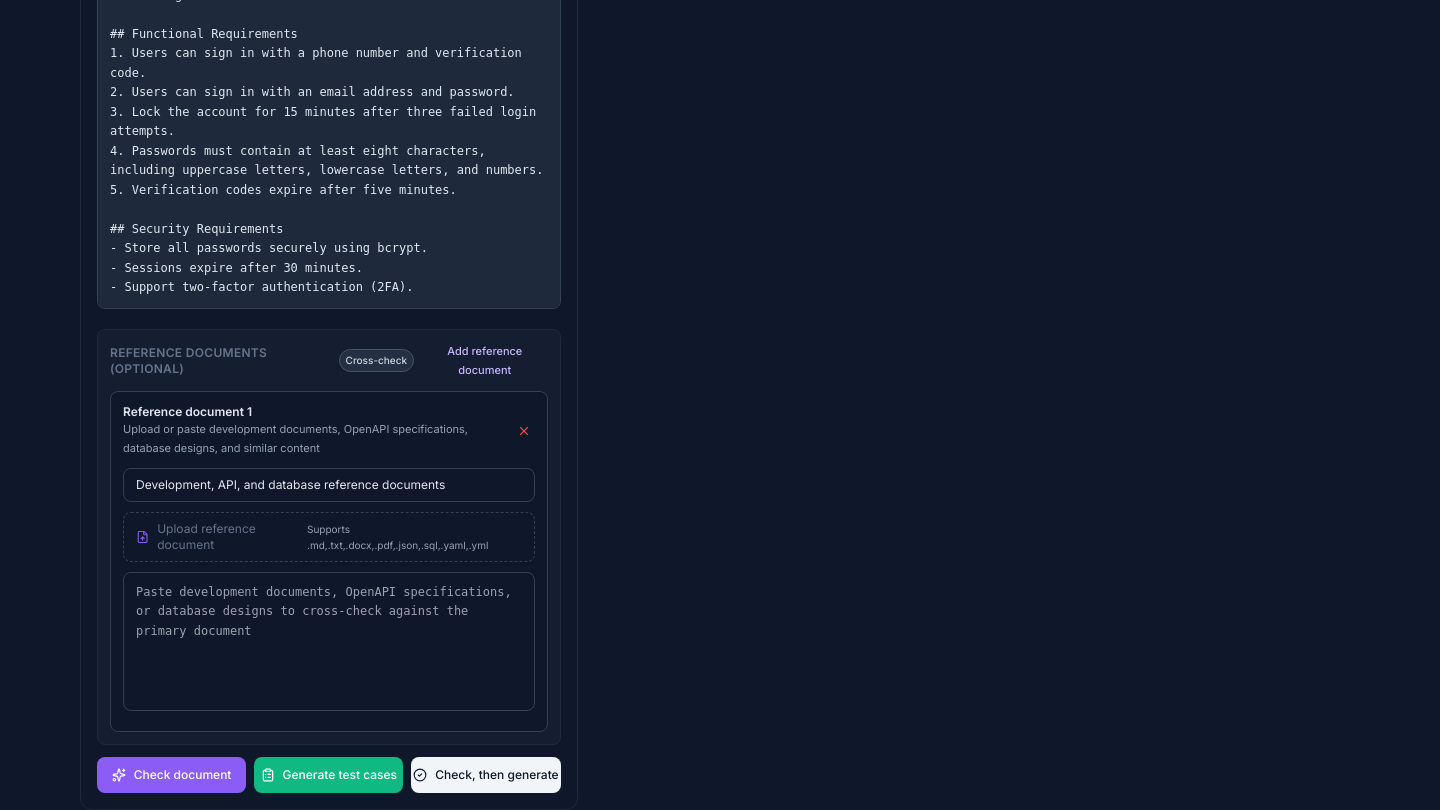
Test: RequirementPage › should show document analysis result after clicking detect
This screenshot has width=1440, height=810.
(page scrolled)
What coordinates should you click on to do the following:
click the button "Check document"
I would click on:
 (172, 775)
Its box is [97,757,246,793].
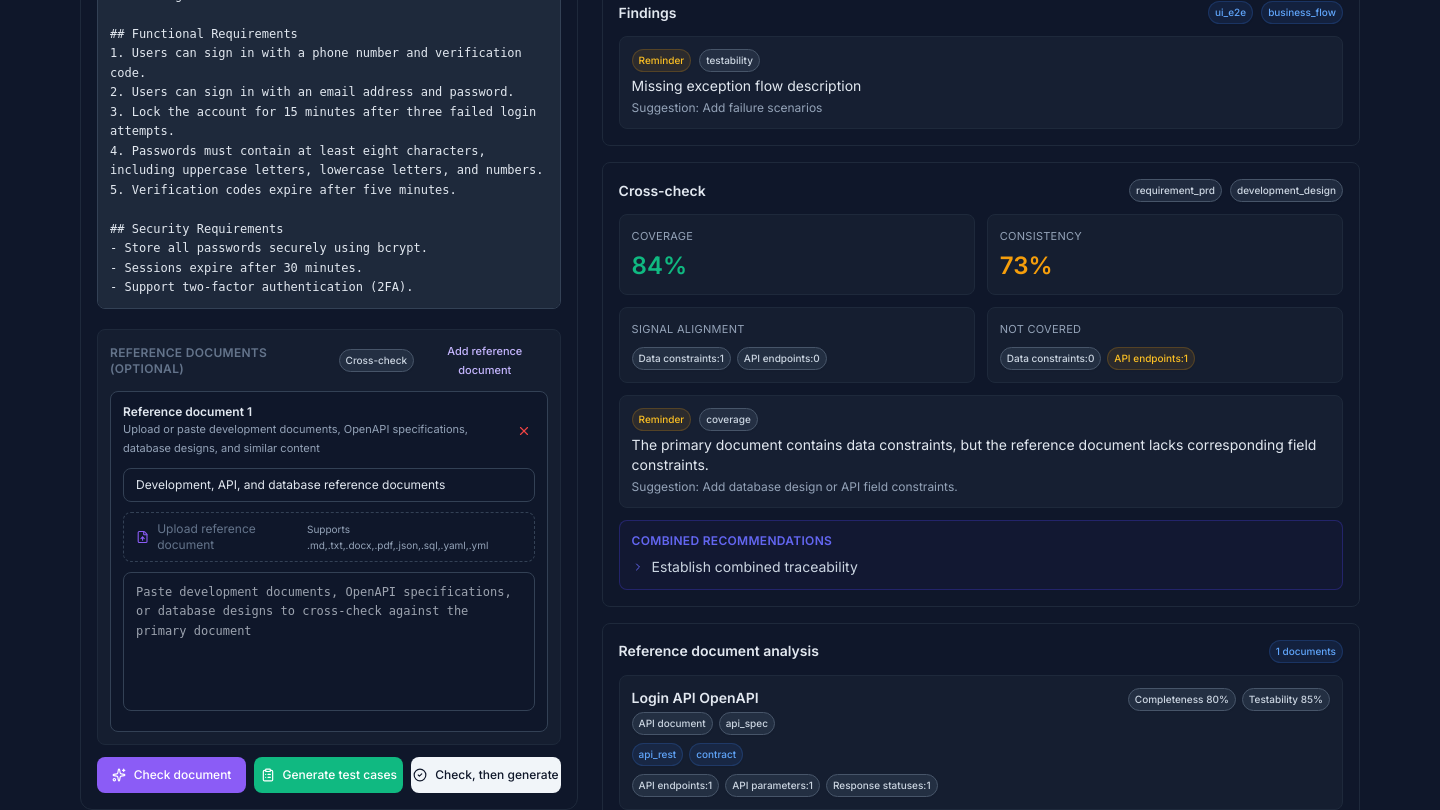
Expected: the text "Missing exception flow description" is shown, [632,77,861,94]
Expected: the list item "Establish combined traceability" is shown, [632,558,858,575]
Expected: the heading "Reference document analysis" is shown, [619,641,819,661]
